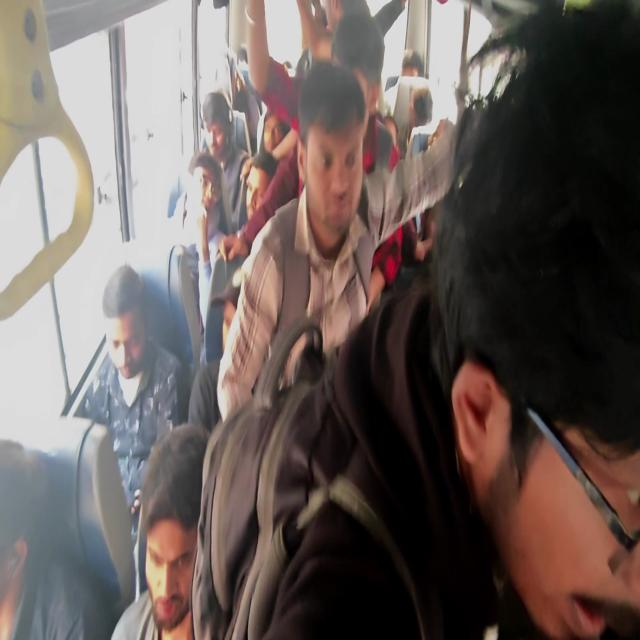person: (190, 2, 639, 638), (430, 1, 639, 638), (215, 59, 461, 425), (72, 263, 189, 598), (110, 422, 210, 638), (188, 150, 229, 336), (201, 89, 251, 221)
